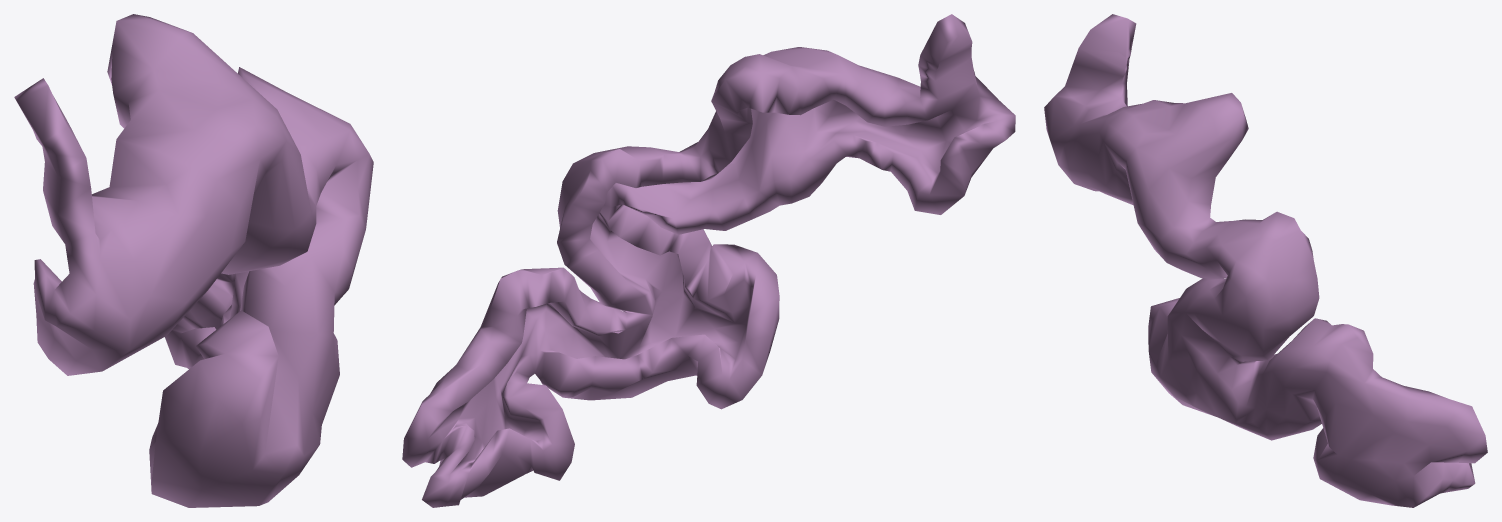
The picture shows the model from 3 angles, left to right: view 1: azimuth 30°, elevation 25°; view 2: azimuth 150°, elevation 25°; view 3: azimuth 270°, elevation 25°; orthographic projection. The views are drawn at different scales.
Parts seen in each view (by area): view 1: 左侧中央前回; view 2: 左侧中央前回; view 3: 左侧中央前回.
Part boxes in pixels (bbox=[...]): 左侧中央前回: bbox=[14, 14, 373, 507]; 左侧中央前回: bbox=[402, 14, 1015, 507]; 左侧中央前回: bbox=[1044, 14, 1487, 507].
Bounding box in the file's own units: 0.0716 × 0.0819 × 0.0903.
